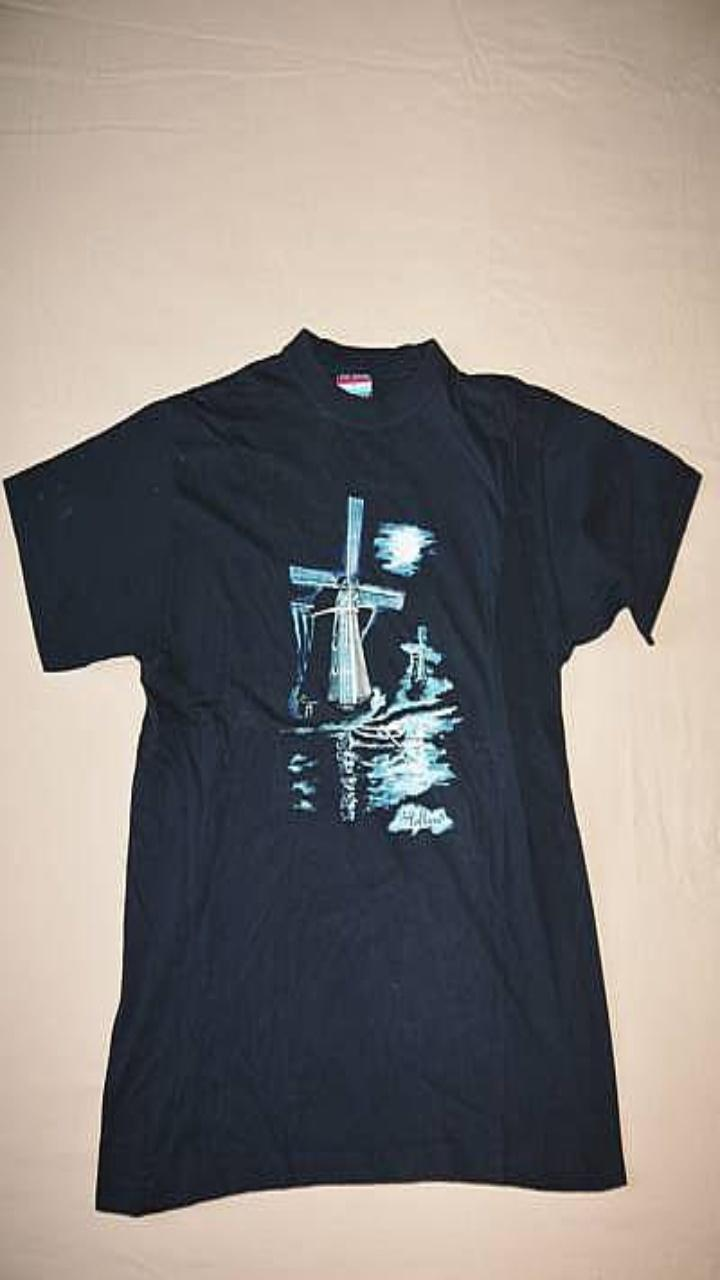T-Shirt: (3, 328, 701, 1214)
